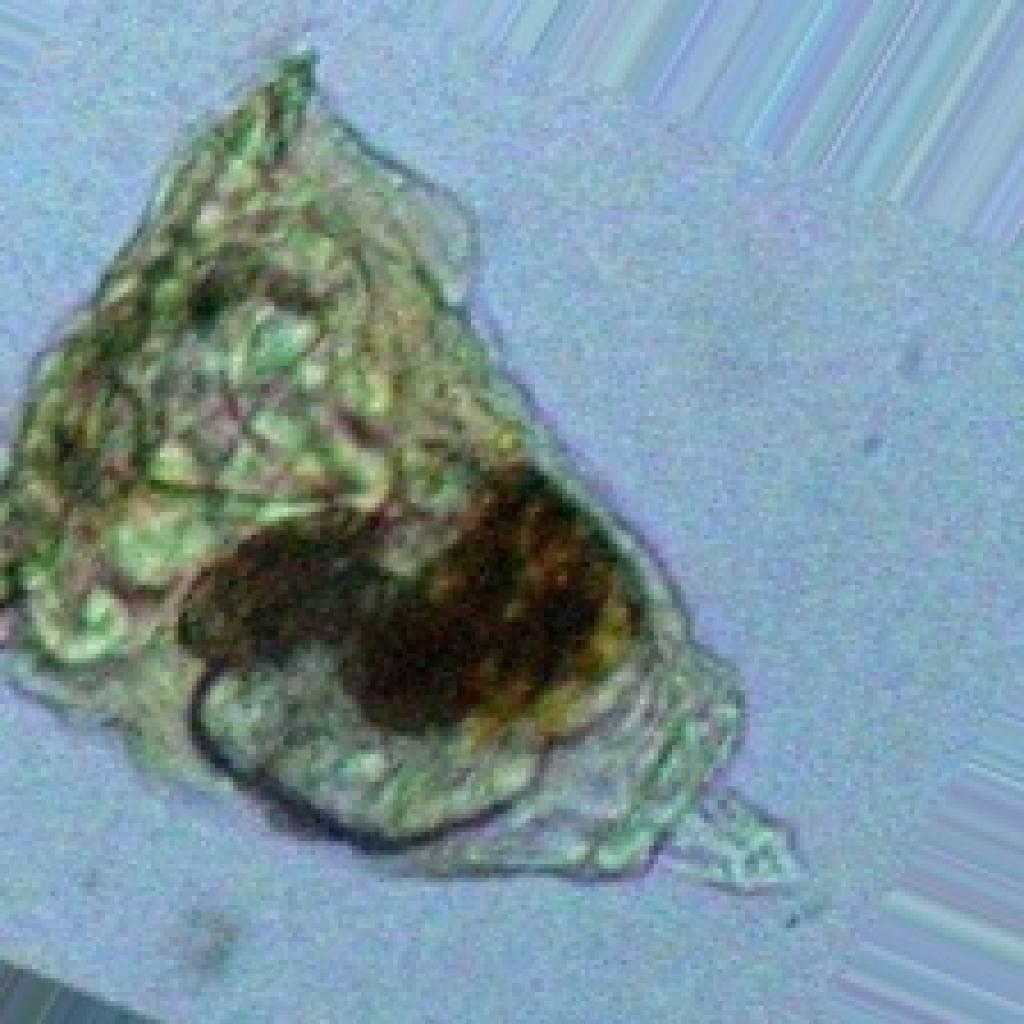Rotifer: (0, 41, 805, 892)
